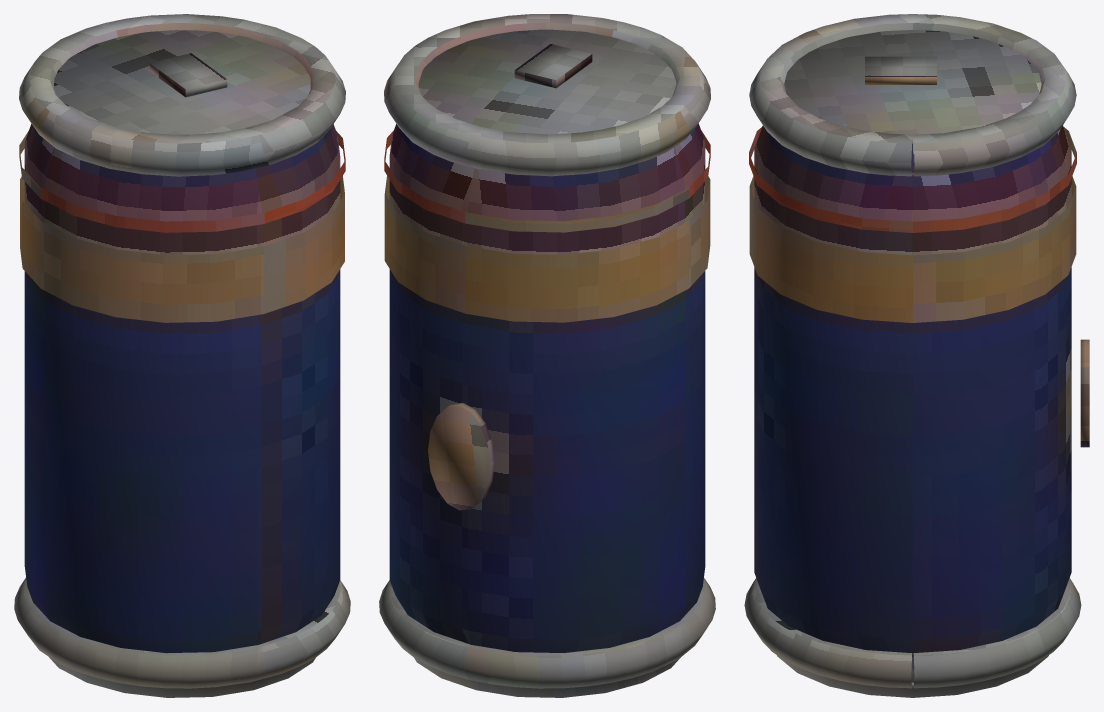
Rendered from can_coffee.glb.
3 views of the same model, side by side, from view 1: azimuth 30°, elevation 25°; view 2: azimuth 150°, elevation 25°; view 3: azimuth 270°, elevation 25° (orthographic).
Parts seen in each view (by area): view 1: prop_can_coffee_felt; view 2: prop_can_coffee_felt; view 3: prop_can_coffee_felt.
Boxes of the visible parts, left/top/right/bottom form: prop_can_coffee_felt: left=14, top=14, right=350, bottom=697; prop_can_coffee_felt: left=379, top=14, right=715, bottom=697; prop_can_coffee_felt: left=744, top=14, right=1089, bottom=697.
Size of the model in its own units: 0.0844 by 0.1579 by 0.0865.
1 material, 1 textured.
